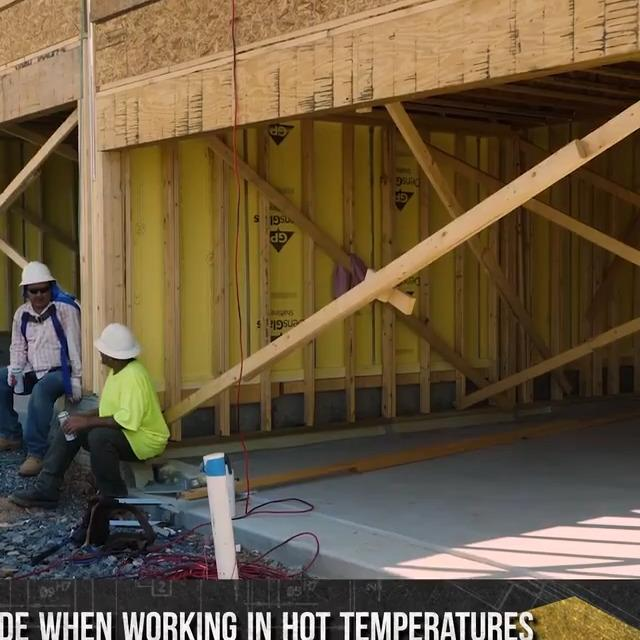Gloves: (71, 376, 83, 402)
Hardhat: (98, 319, 139, 360), (18, 261, 55, 287)
NO-Mask: (29, 296, 53, 310), (99, 356, 113, 365)
NO-Safety Vest: (99, 366, 155, 438), (14, 306, 70, 373)
Person: (12, 320, 170, 548), (0, 260, 81, 474)
